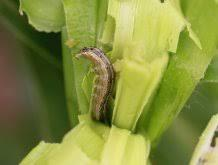fallarmy_worm: (78, 44, 122, 124)
